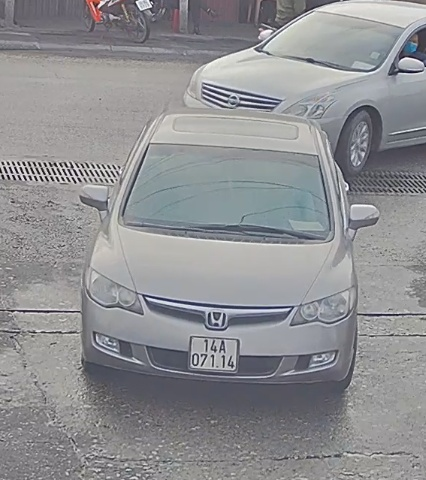vehicle plate: (182, 331, 241, 375)
